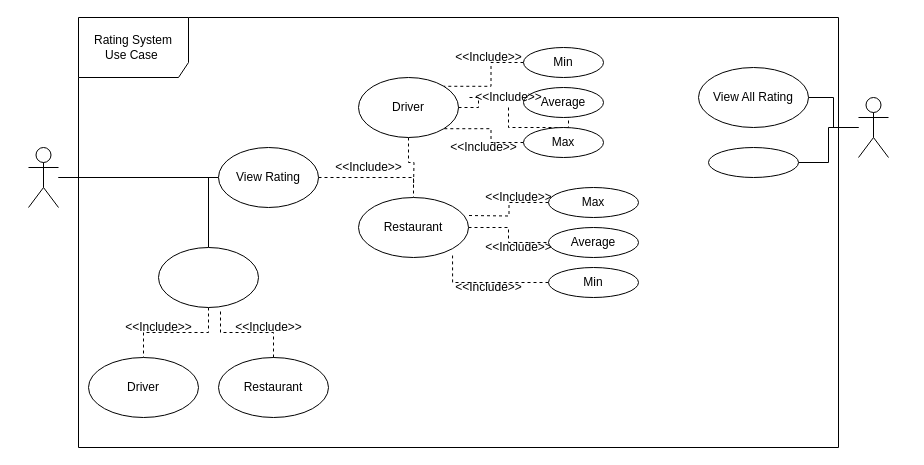
Some shapes in this 924 by 465 pixel diagram are drawn without their labels. The shapes that lost their labels are listed below. From the top down, each one's centre as x and y in pixels, then its label:
At (x=873, y=127): "Administator".
At (x=43, y=177): "Customer".
At (x=753, y=162): "Remove Rating".
At (x=208, y=277): "Leave Rating".
